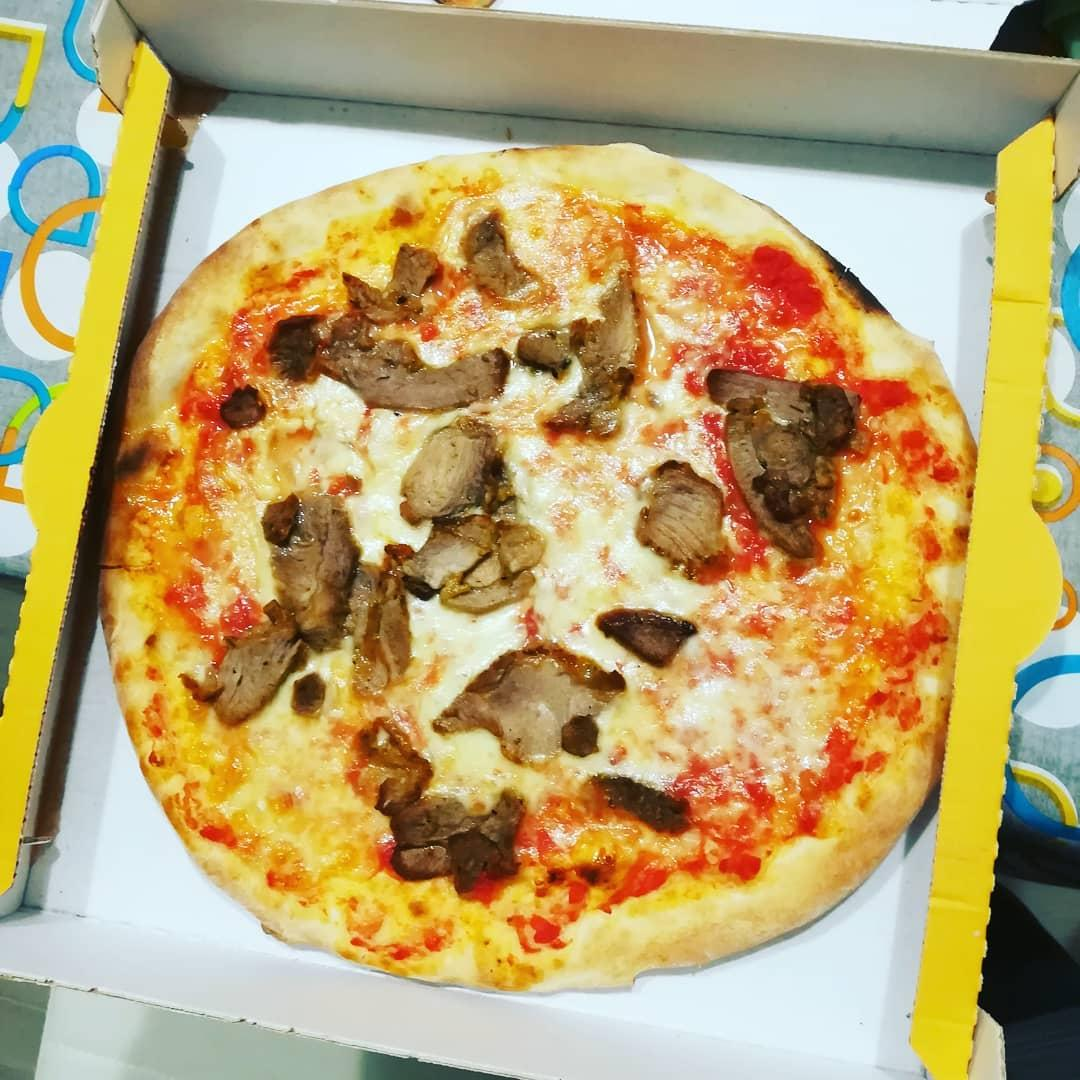Pizza: (93, 145, 982, 995)
